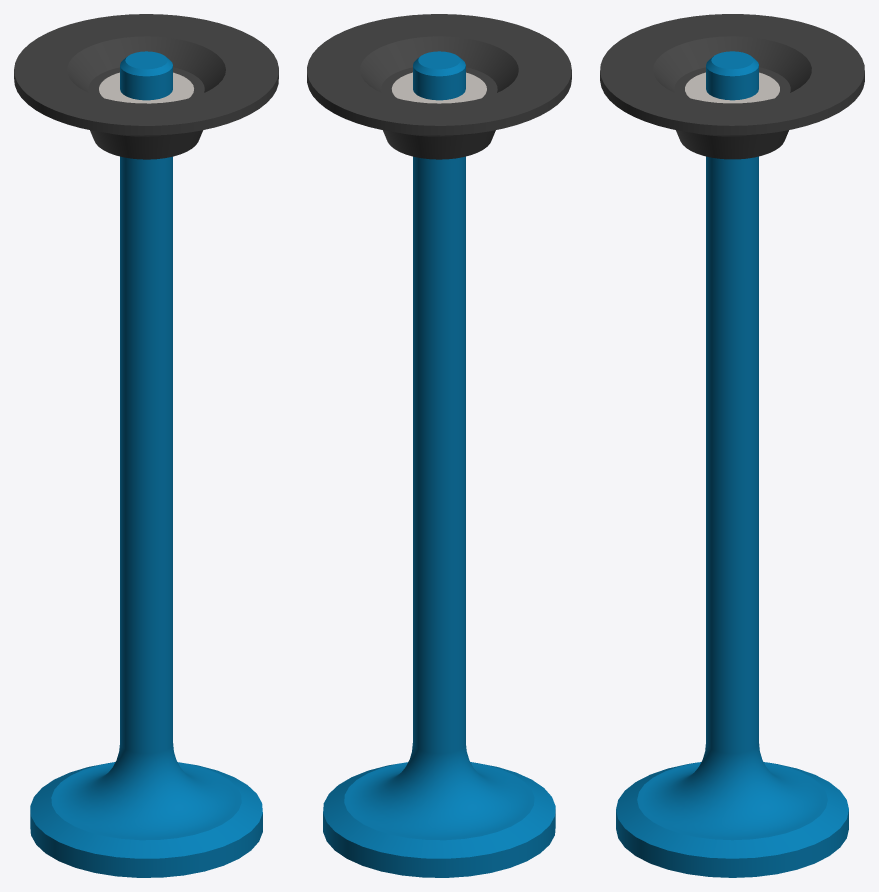
File: valve_subassemble.glb
3 views of the same model, side by side, from view 1: azimuth 30°, elevation 25°; view 2: azimuth 150°, elevation 25°; view 3: azimuth 270°, elevation 25° (orthographic).
Parts seen in each view (by area): view 1: VALVE-1, retainer-1, valve spring retainer-1; view 2: VALVE-1, retainer-1, valve spring retainer-1; view 3: VALVE-1, retainer-1, valve spring retainer-1.
Part boxes in pixels (<box>): VALVE-1: <box>30,51,262,877</box>; retainer-1: <box>14,14,278,159</box>; valve spring retainer-1: <box>99,72,193,103</box>; VALVE-1: <box>323,51,555,877</box>; retainer-1: <box>307,14,571,159</box>; valve spring retainer-1: <box>391,72,486,103</box>; VALVE-1: <box>616,51,848,877</box>; retainer-1: <box>600,14,864,159</box>; valve spring retainer-1: <box>685,72,779,103</box>.
Size of the model in its own units: 0.025 by 0.08 by 0.025.
